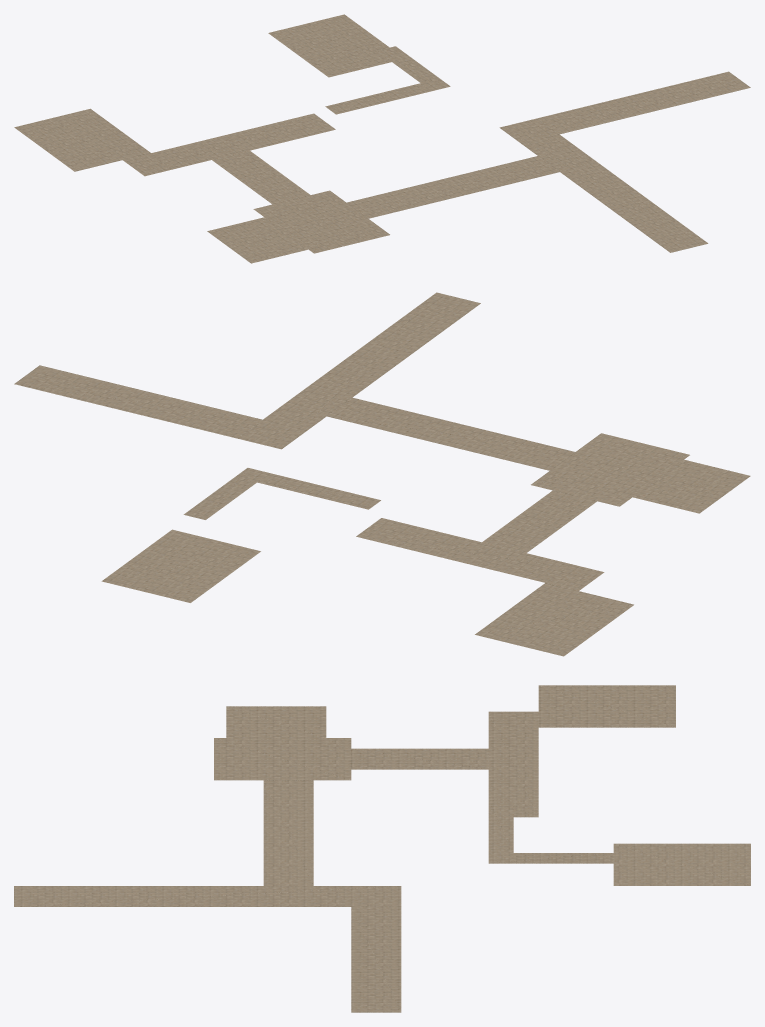
File: Level1Ground.fbx
3 views of the same model, one above another, from view 1: azimuth 30°, elevation 25°; view 2: azimuth 150°, elevation 25°; view 3: azimuth 270°, elevation 25° (orthographic). The views are drawn at different scales.
Visible parts, largest first — view 1: Level1Floor; view 2: Level1Floor; view 3: Level1Floor.
Boxes of the visible parts, <box> form: Level1Floor: <box>14,14,750,263</box>; Level1Floor: <box>14,292,750,656</box>; Level1Floor: <box>14,685,750,1012</box>.
Size of the model in its own units: 62 by 1.5 by 59.
